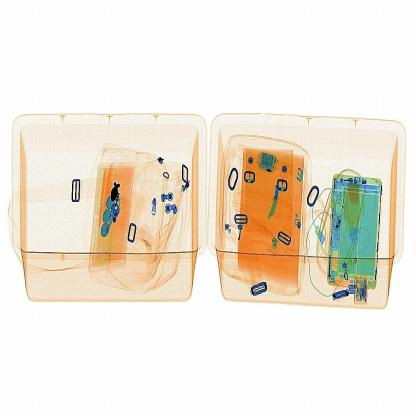wrench: (267, 181, 284, 223)
